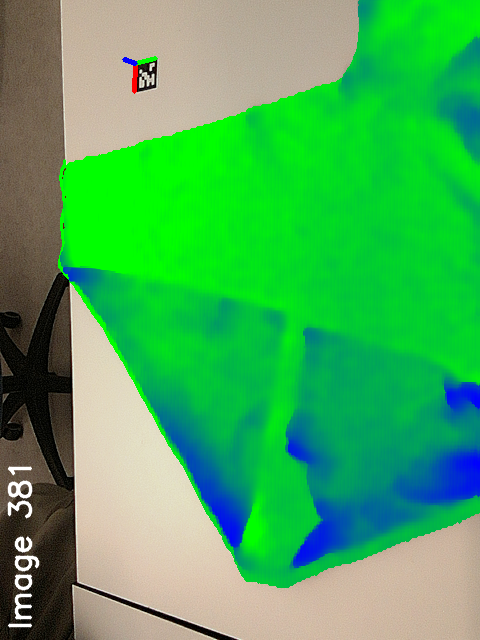V: (229, 278, 296, 344), (298, 312, 343, 369)
